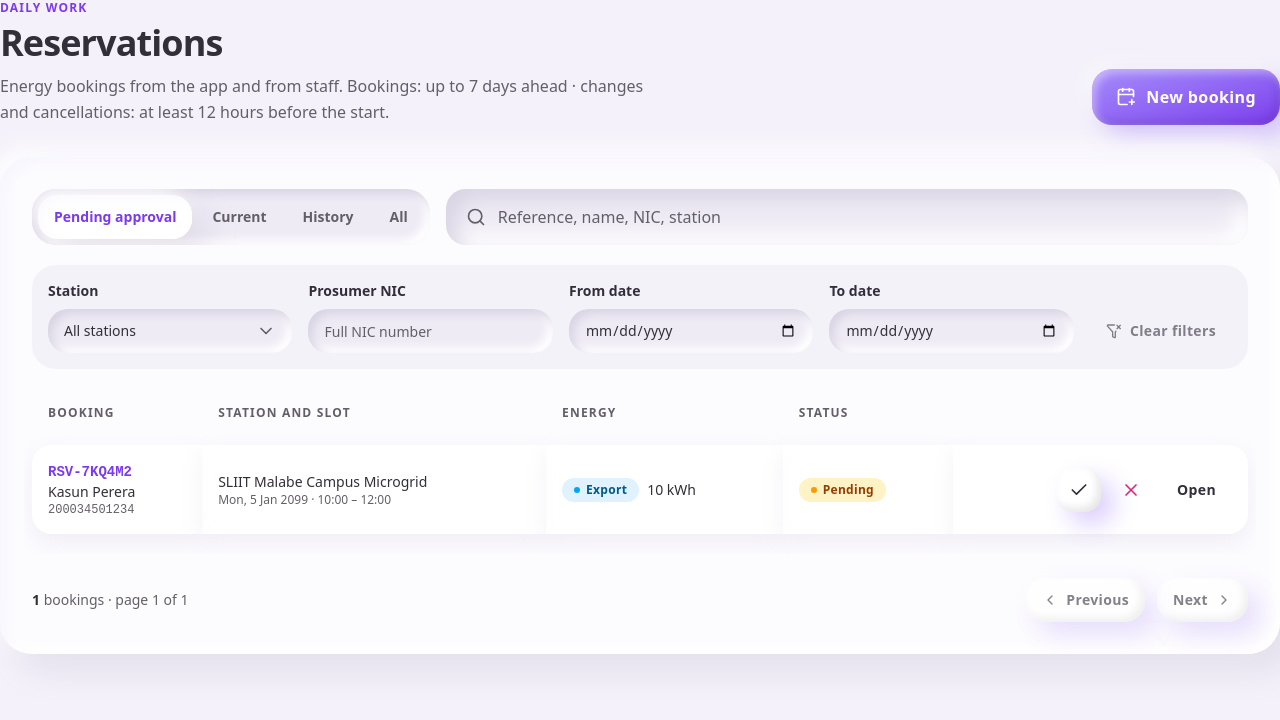
Test: ReservationsPage › needs a reason to reject a booking
The width and height of the screenshot is (1280, 720).
Click the button named "Reject RSV-7KQ4M2" at (1131, 490), box [1109,468,1153,512]
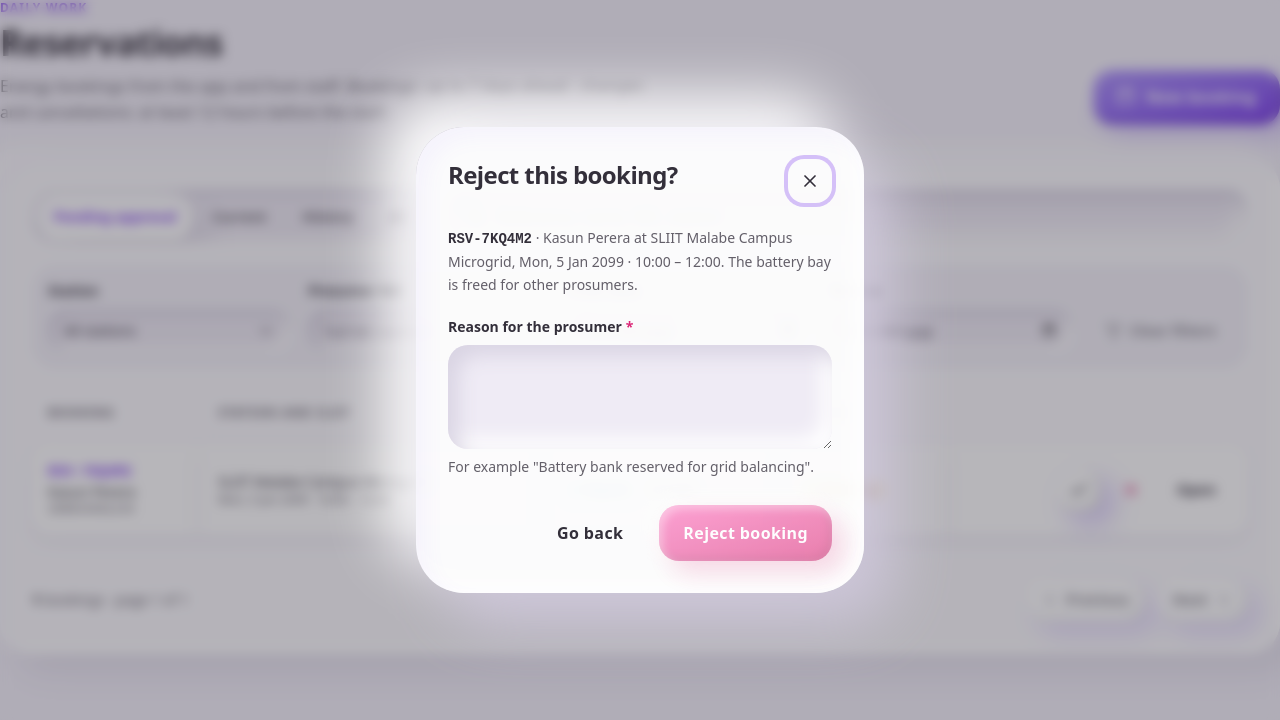
Expected: the button "Reject booking" is disabled, [659,505,832,561]
Type "  Battery maintenance " into the text box labelled "Reason for the prosumer" at (640, 397), box [448,345,832,449]
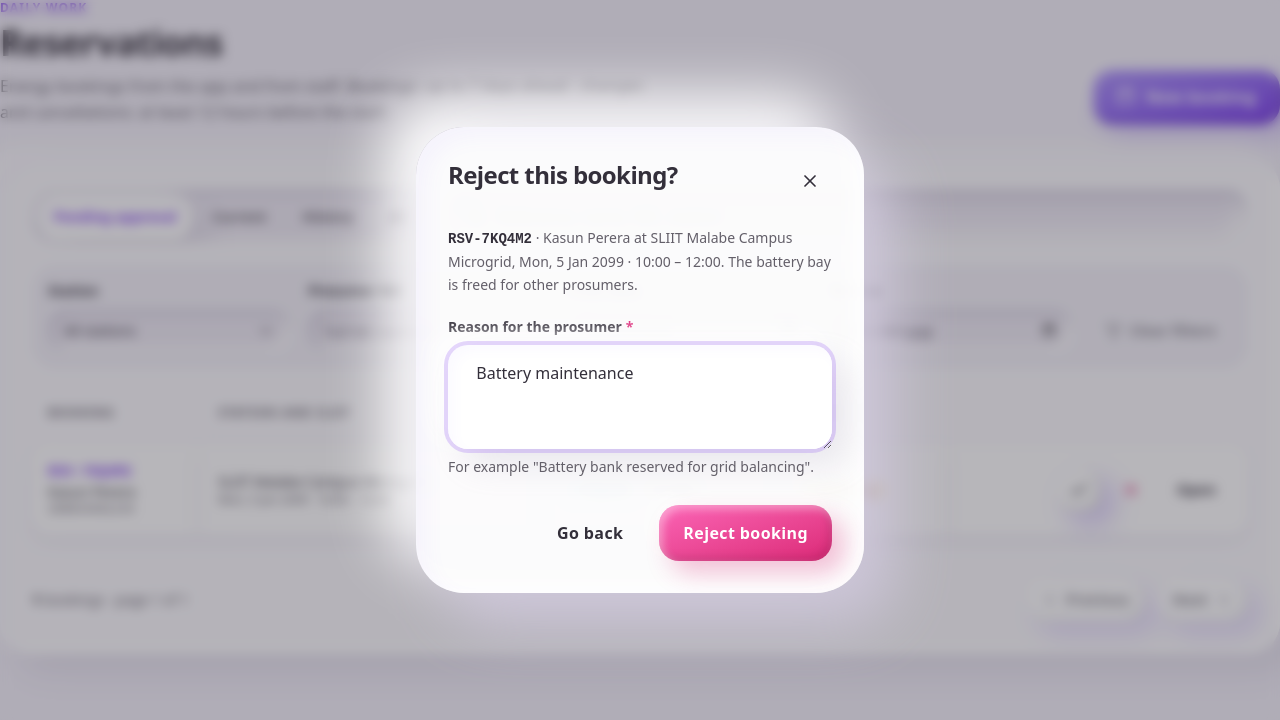
Click the button "Reject booking" at (746, 533), box [659,505,832,561]
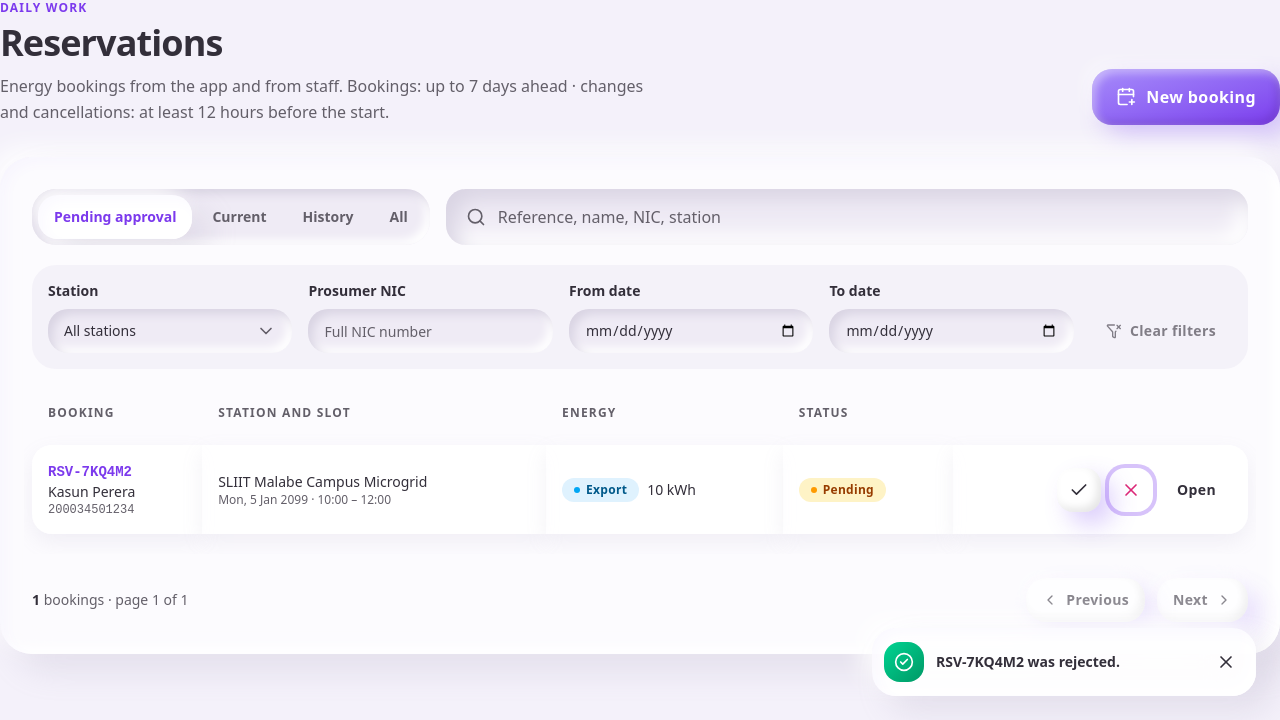
Expected: the text "RSV-7KQ4M2 was rejected." is shown, [936,652,1120,671]
